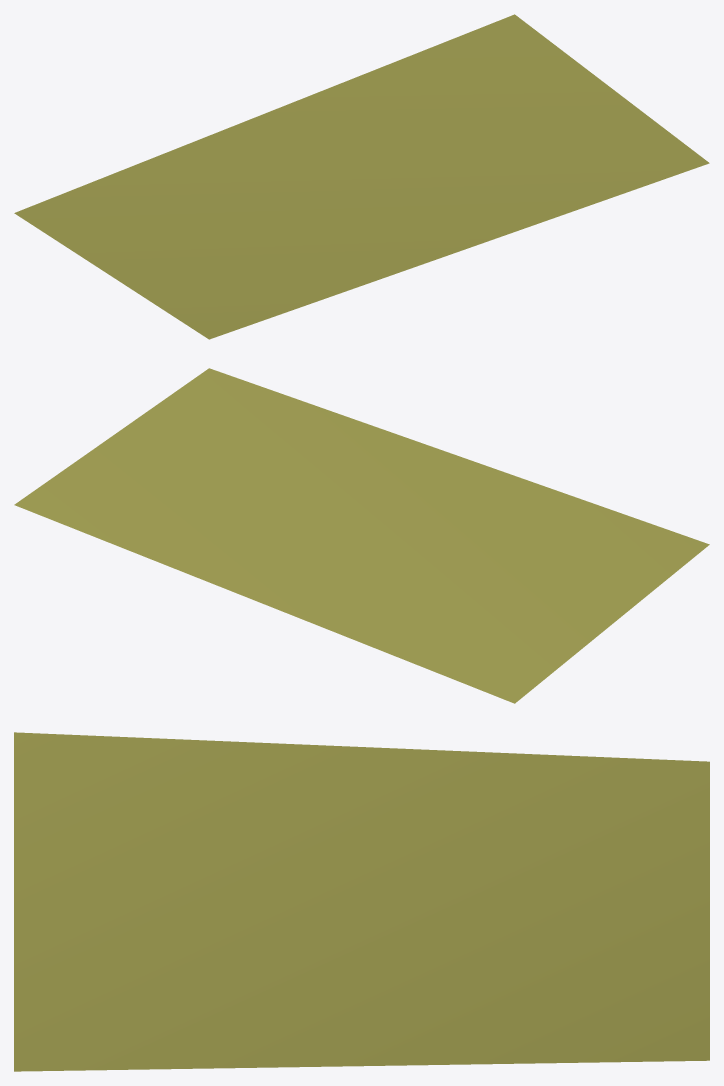
File: Field_8.glb
The picture shows the model from 3 angles, top to bottom: view 1: azimuth 30°, elevation 25°; view 2: azimuth 150°, elevation 25°; view 3: azimuth 270°, elevation 25°; orthographic projection. The views are drawn at different scales.
Visible parts, largest first — view 1: Field_8; view 2: Field_8; view 3: Field_8.
Boxes of the visible parts, x1=… form: Field_8: x1=14, y1=14, x2=709, y2=339; Field_8: x1=14, y1=368, x2=709, y2=703; Field_8: x1=14, y1=732, x2=709, y2=1071.
Bounding box in the file's own units: 40 × 5.85 × 27.
